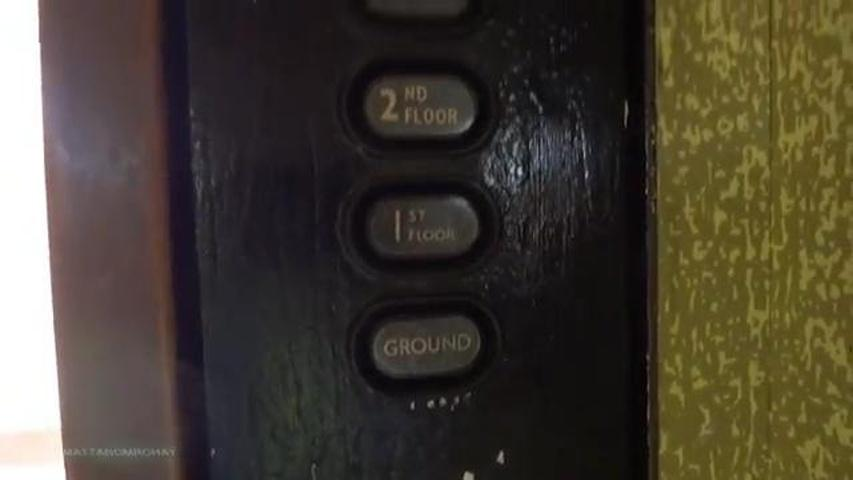1: (331, 169, 503, 280)
2: (337, 48, 502, 162)
G: (341, 290, 507, 401)
